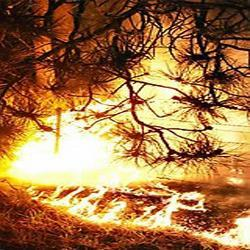fire: (20, 134, 124, 183), (143, 76, 180, 107), (217, 113, 250, 143), (148, 200, 177, 233), (229, 220, 248, 246)
